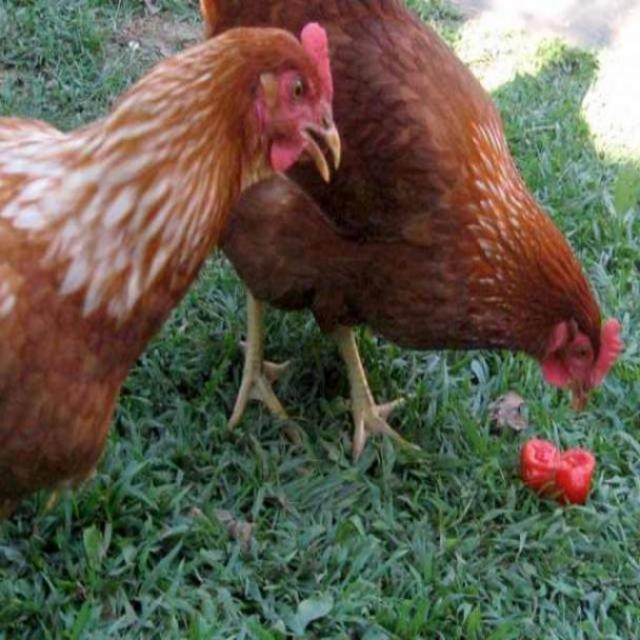Chicken: (195, 0, 627, 489), (0, 21, 341, 495)
